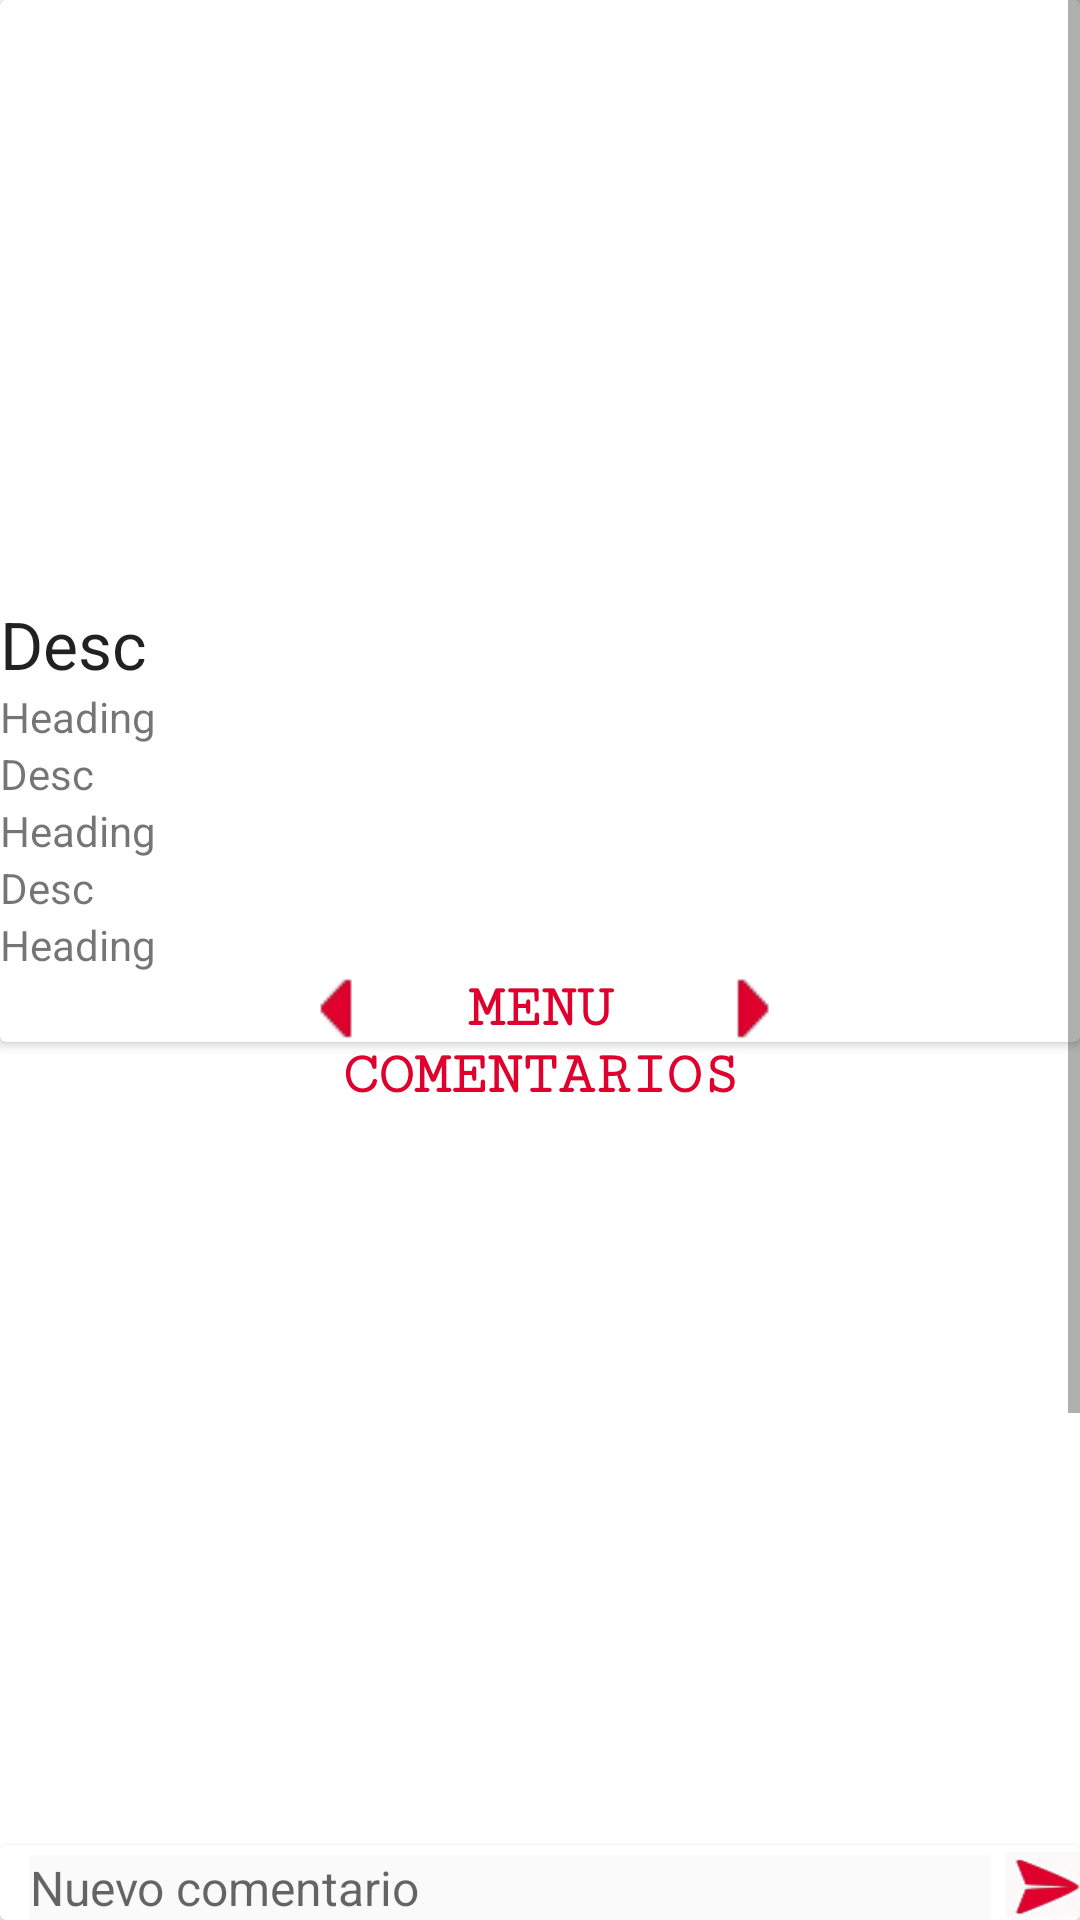

Icon click points for this 1080×1920 phone screenshot, format [x,y]:
send text: [1047,1889]
